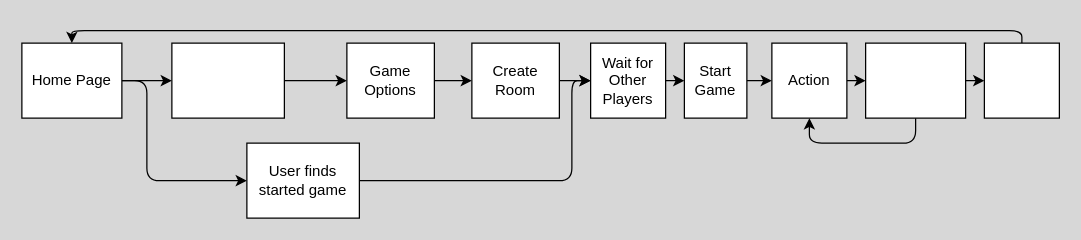
The diagram is 1081 pixels wide and 240 high, and some of its shapes have lost their labels. The centre of each missing label's shape, as x and y in pixels:
Check for Winners: pixel 915 80
Team Wins: pixel 1021 80
User Selects "Start Game": pixel 227 80
